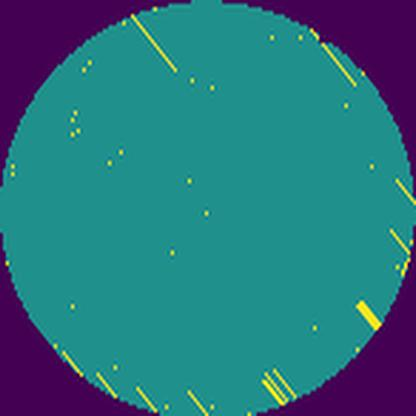Scratch: (128, 12, 181, 74), (309, 28, 360, 91), (260, 363, 298, 409), (353, 299, 384, 333), (133, 382, 161, 412), (183, 388, 213, 416), (94, 370, 122, 399), (387, 227, 414, 257), (393, 176, 416, 207)
